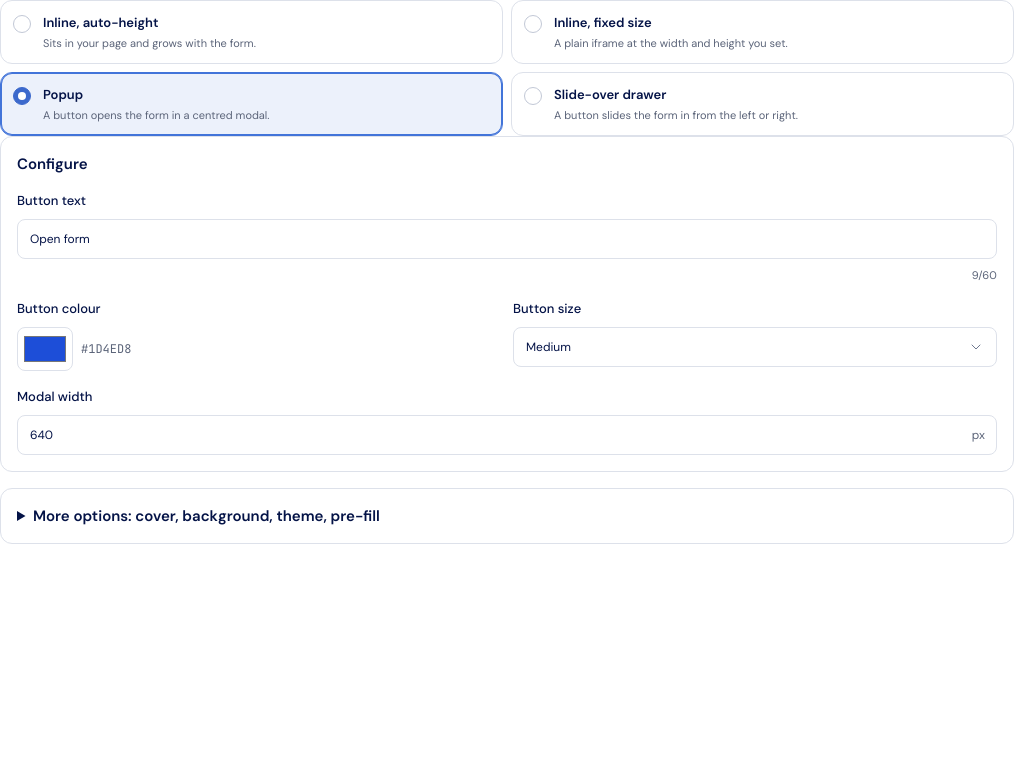
Test: EmbedConfigPanel: button methods › button colour is upper-cased and shown as hex
Type "#00ff00" into the colour field labelled "Button colour" at [45, 349], box x1=17 y1=327 x2=73 y2=371
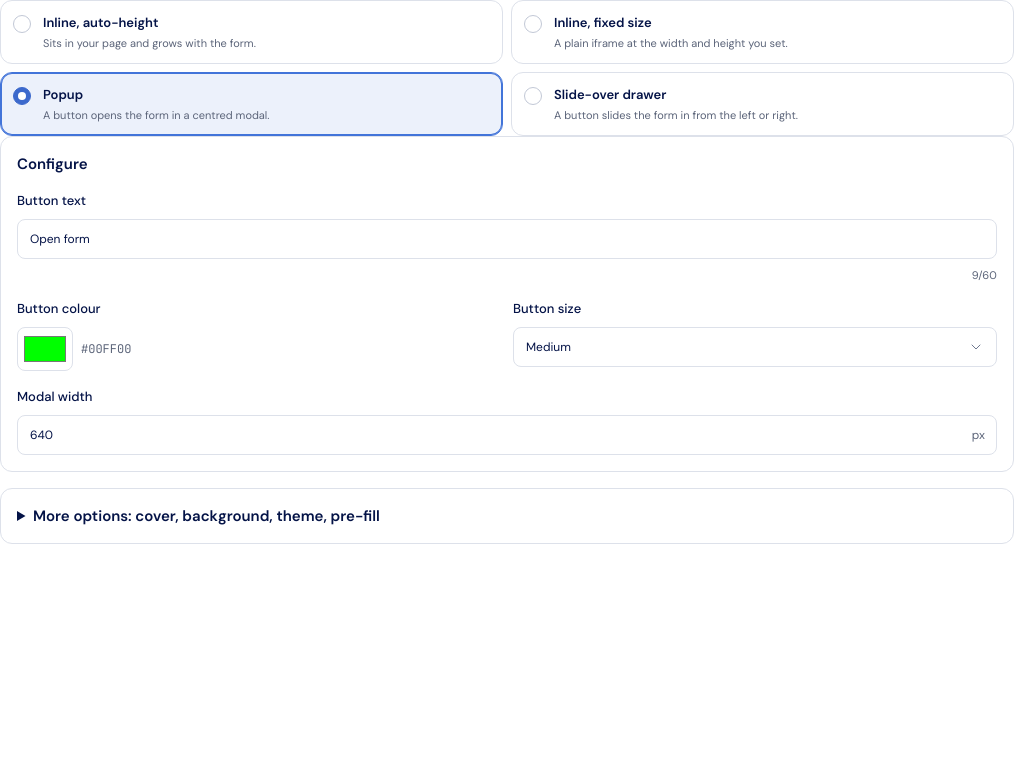
Check: the text "#00FF00" is shown, box x1=81 y1=340 x2=131 y2=358
